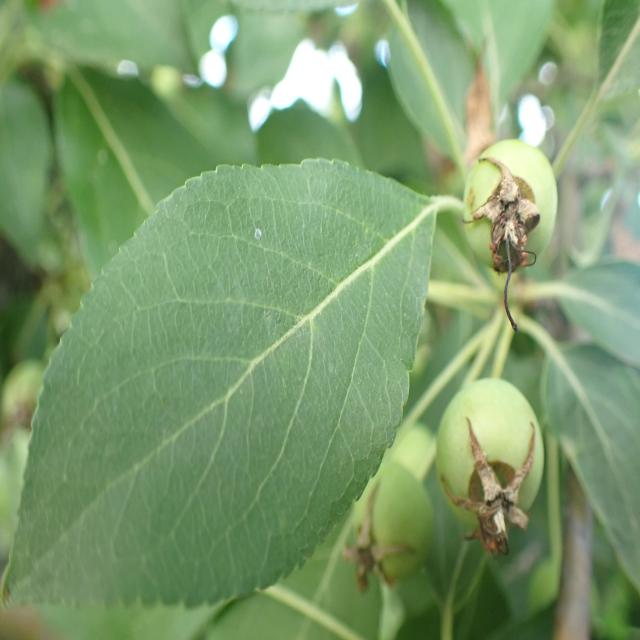healthy: (0, 157, 438, 608), (541, 338, 640, 603), (559, 262, 640, 366)
